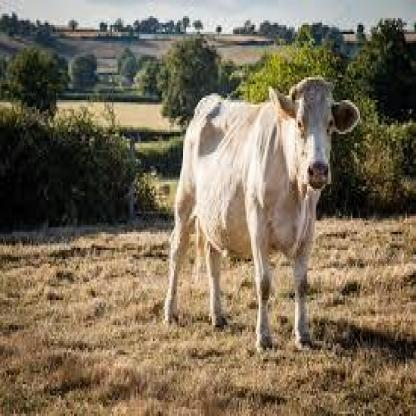cow: (164, 75, 361, 350)
